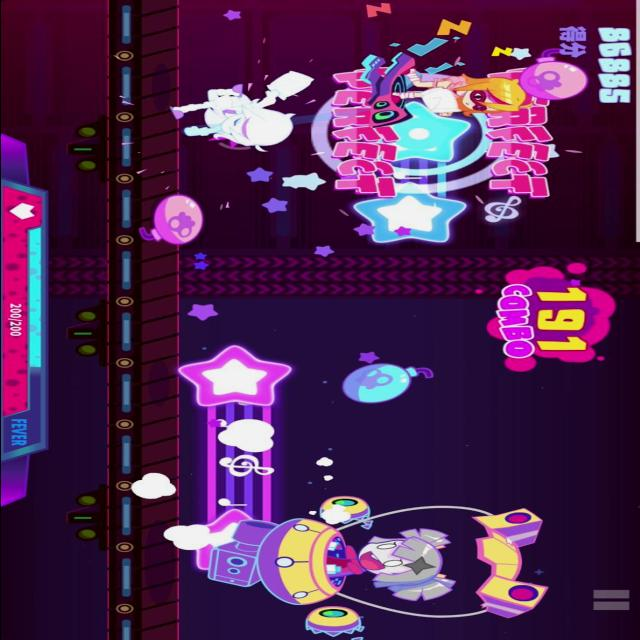hold: (180, 346, 290, 580), (348, 105, 471, 245)
qiangboss: (205, 496, 558, 638)
tang: (517, 44, 585, 104), (339, 364, 435, 404), (138, 194, 204, 244)
